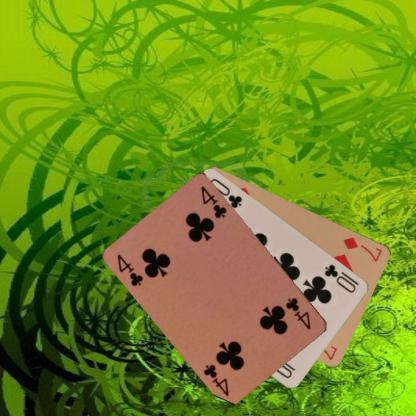10c: (322, 261, 358, 294)
4c: (114, 251, 145, 288), (283, 294, 313, 332)
7d: (340, 234, 384, 263)
